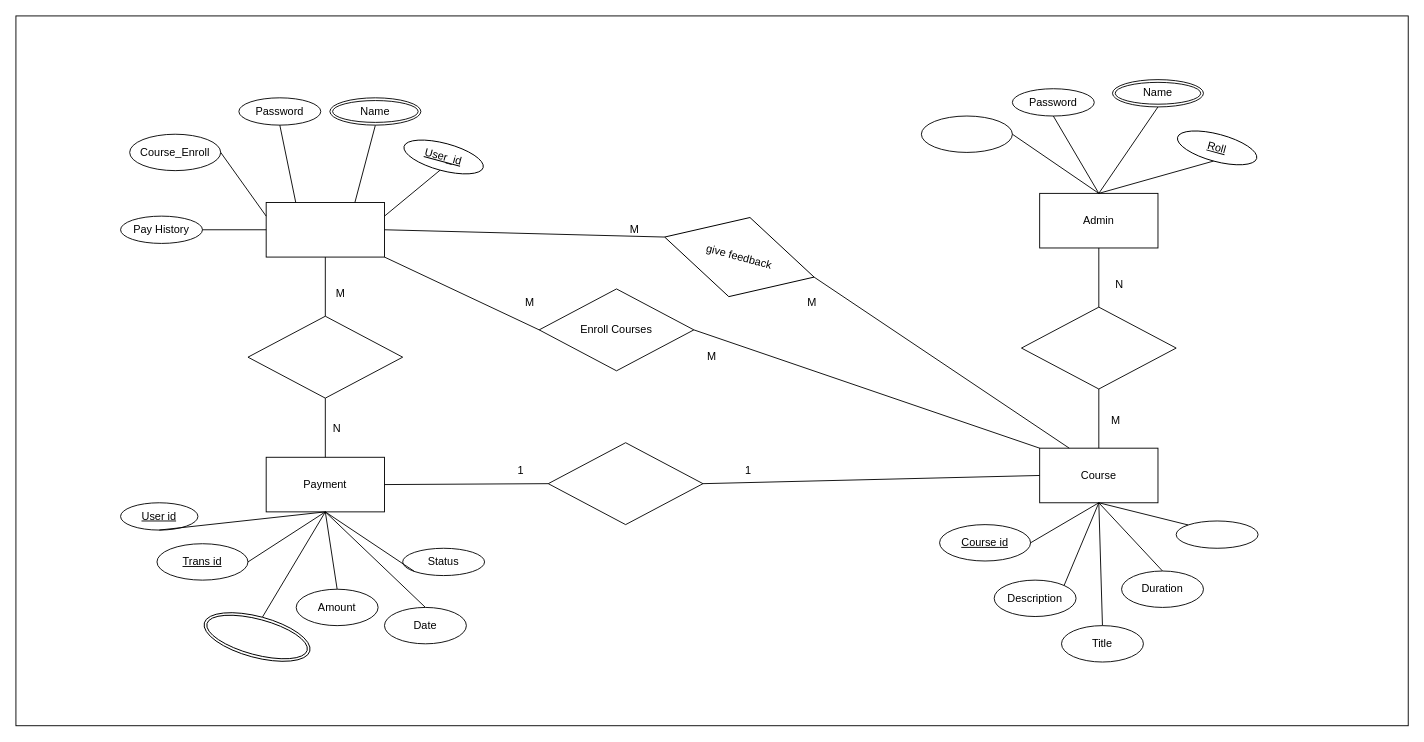
Some shapes in this 1424 by 742 pixel diagram are drawn without their labels. The shapes that lost their labels are listed below. From the top down, each one's centre as x and y in pixels, then its label:
[966,133]: Admin_id
[324,229]: User
[325,356]: Makes
[1098,347]: Manage
[625,483]: Relates to
[1216,534]: Price
[256,636]: Payment Method
